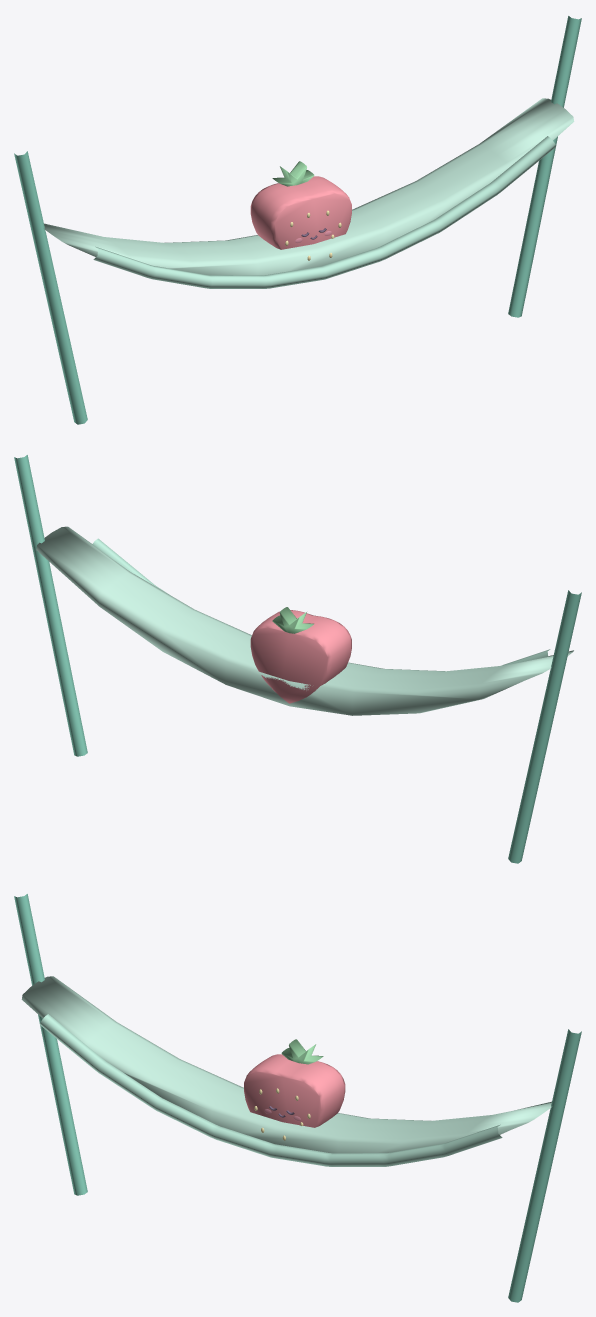
File: decor_4_mint.glb
3 renders of one model, top to bottom at view 1: azimuth 30°, elevation 25°; view 2: azimuth 150°, elevation 25°; view 3: azimuth 330°, elevation 25°, orthographic.
Parts seen in each view (by area): view 1: decor_4_mint; view 2: decor_4_mint; view 3: decor_4_mint.
Part boxes in pixels (box(x1,y1,x2,y2)): decor_4_mint: box(14, 16, 581, 424); decor_4_mint: box(14, 455, 581, 863); decor_4_mint: box(14, 894, 581, 1302).
Size of the model in its own units: 18.74 by 9.08 by 2.14.
